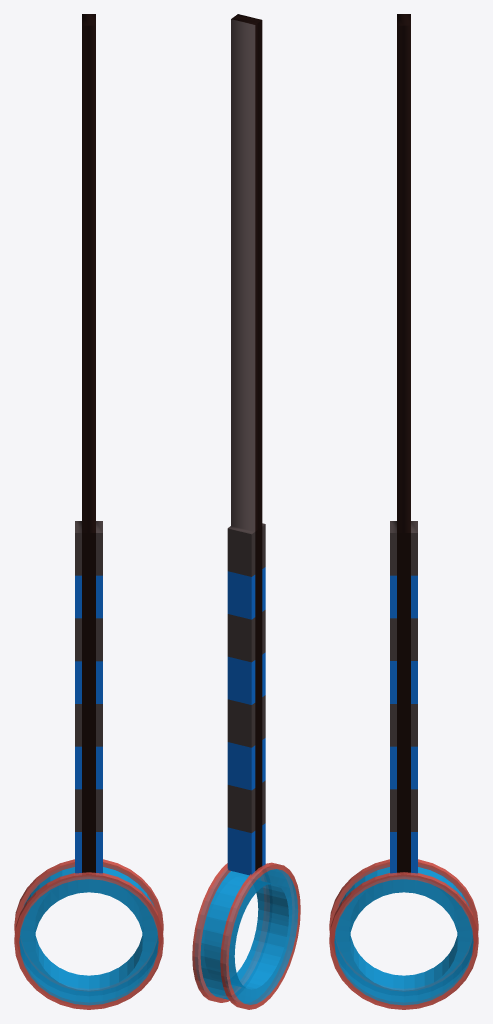
The model's file is Pendulum Long with support .fbx.
3 views of the same model, side by side, from view 1: azimuth 90°, elevation 25°; view 2: azimuth 150°, elevation 25°; view 3: azimuth 270°, elevation 25° (orthographic).
Parts seen in each view (by area): view 1: Circle; view 2: Circle; view 3: Circle.
Part boxes in pixels (left/top/right/bottom): Circle: left=14, top=14, right=163, bottom=1009; Circle: left=192, top=14, right=300, bottom=1009; Circle: left=329, top=14, right=478, bottom=1009.
Size of the model in its own units: 176 by 1277 by 46.12.
